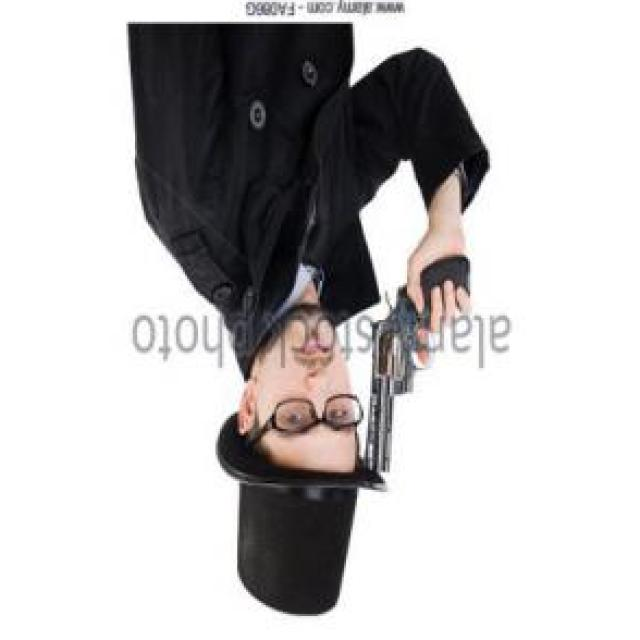pistol: (362, 255, 472, 472)
